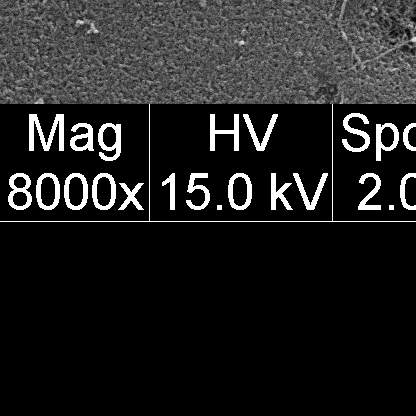cell2surface: (342, 0, 416, 16)
